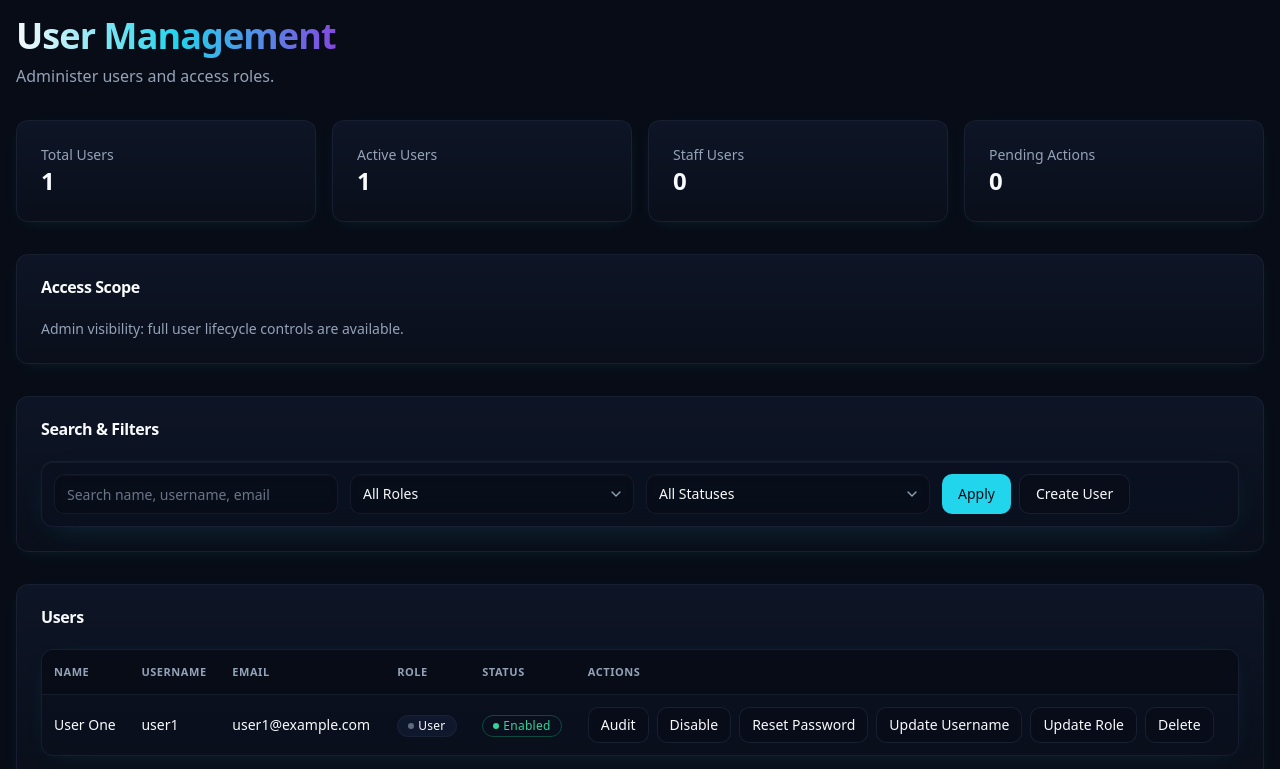
UserManagementView RBAC UI › shows error when create user mutation fails
What coordinates should you click on to do the following:
click the button "Create User"
I would click on:
 (1075, 494)
Its box is [1019,474,1130,514].
(page scrolled)
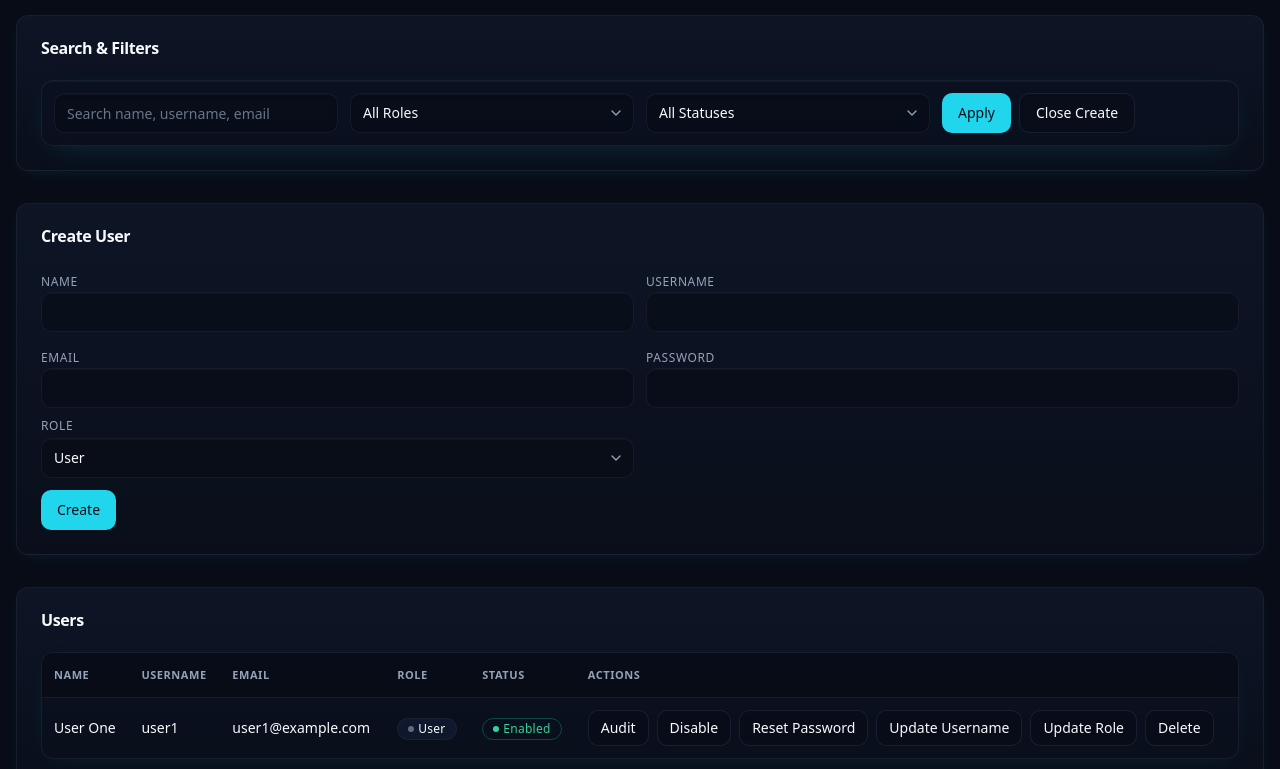
What coordinates should you click on to do the following:
click the button "Create"
I would click on:
 (79, 510)
Its box is [41,490,116,530].
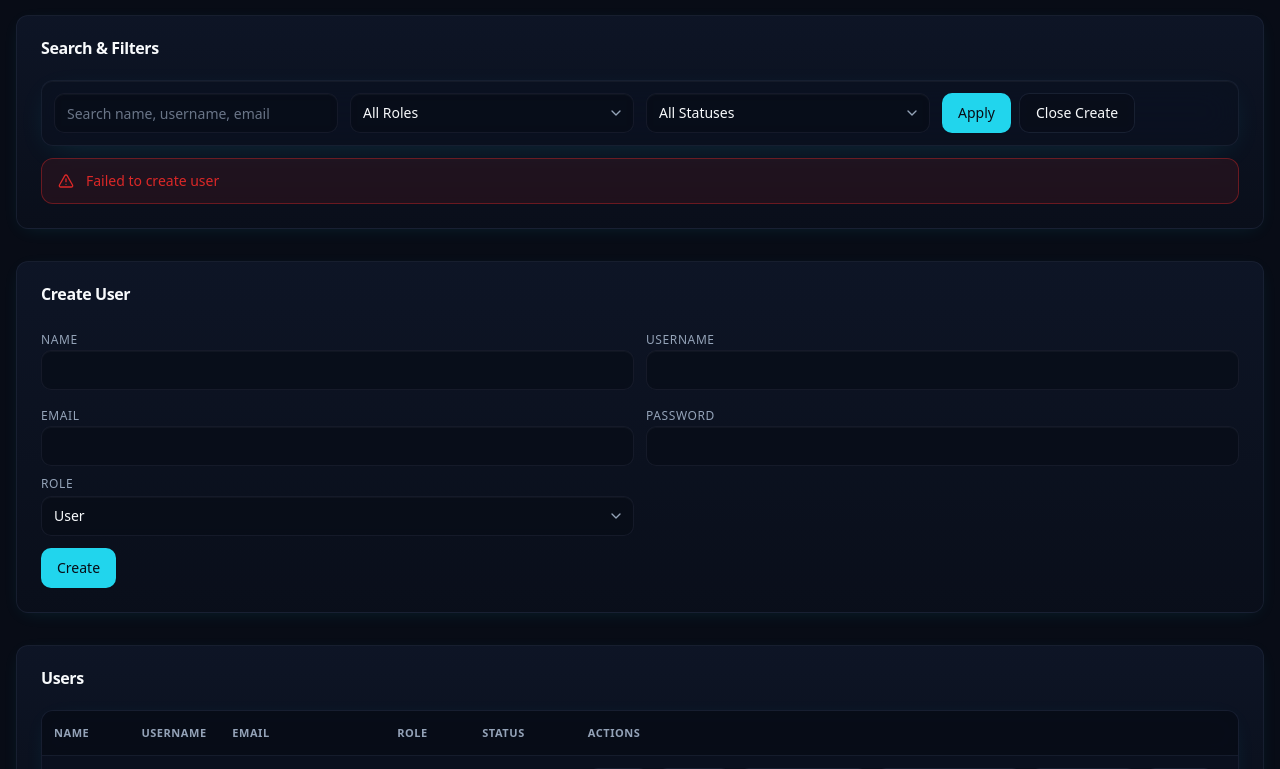
Expected: the text "Failed to create user" is shown, [86,171,219,190]
